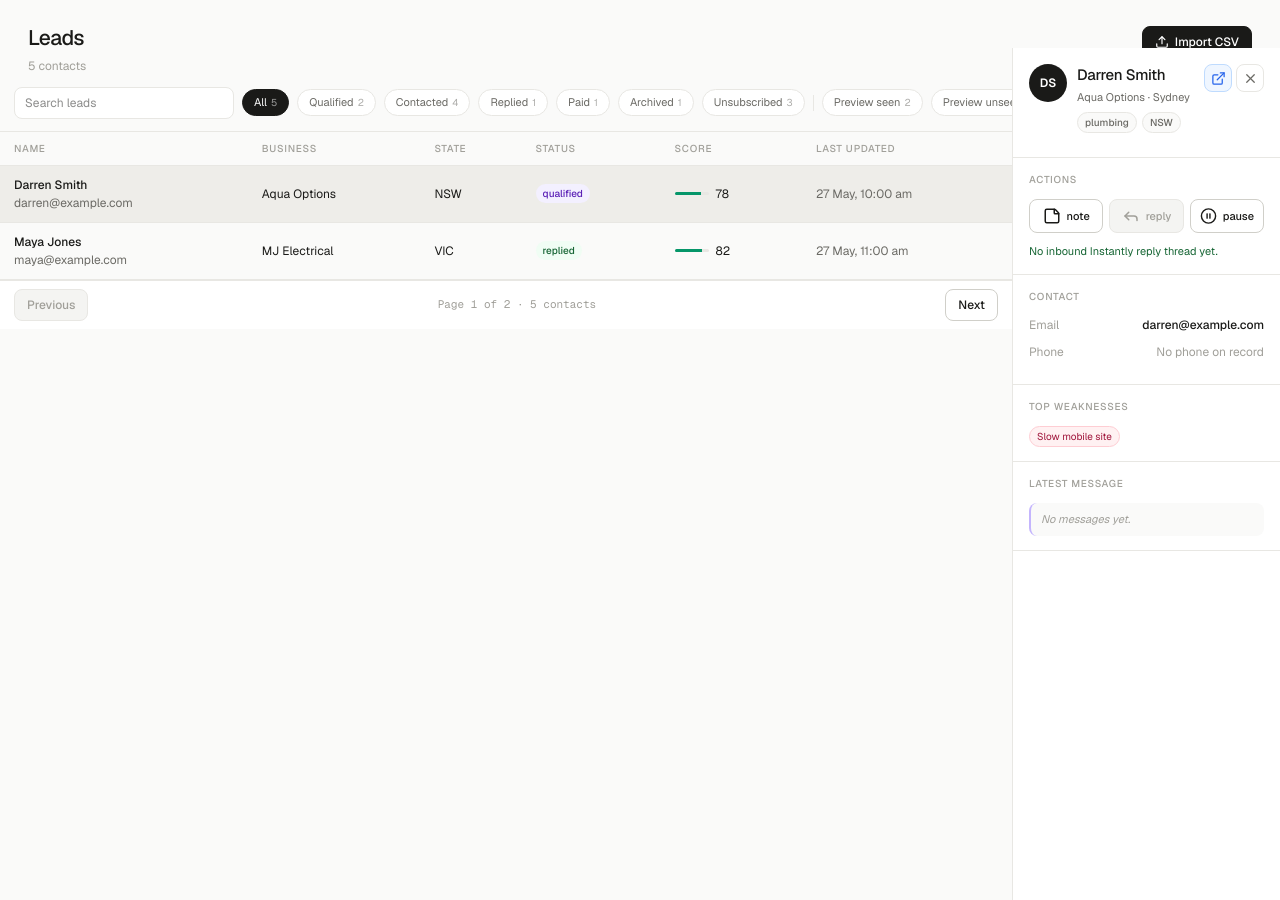
Test: LeadsWorkbench › requests the next page without navigation when pagination is clicked
Click the button "Next" at (972, 304), box [945,288,998,320]
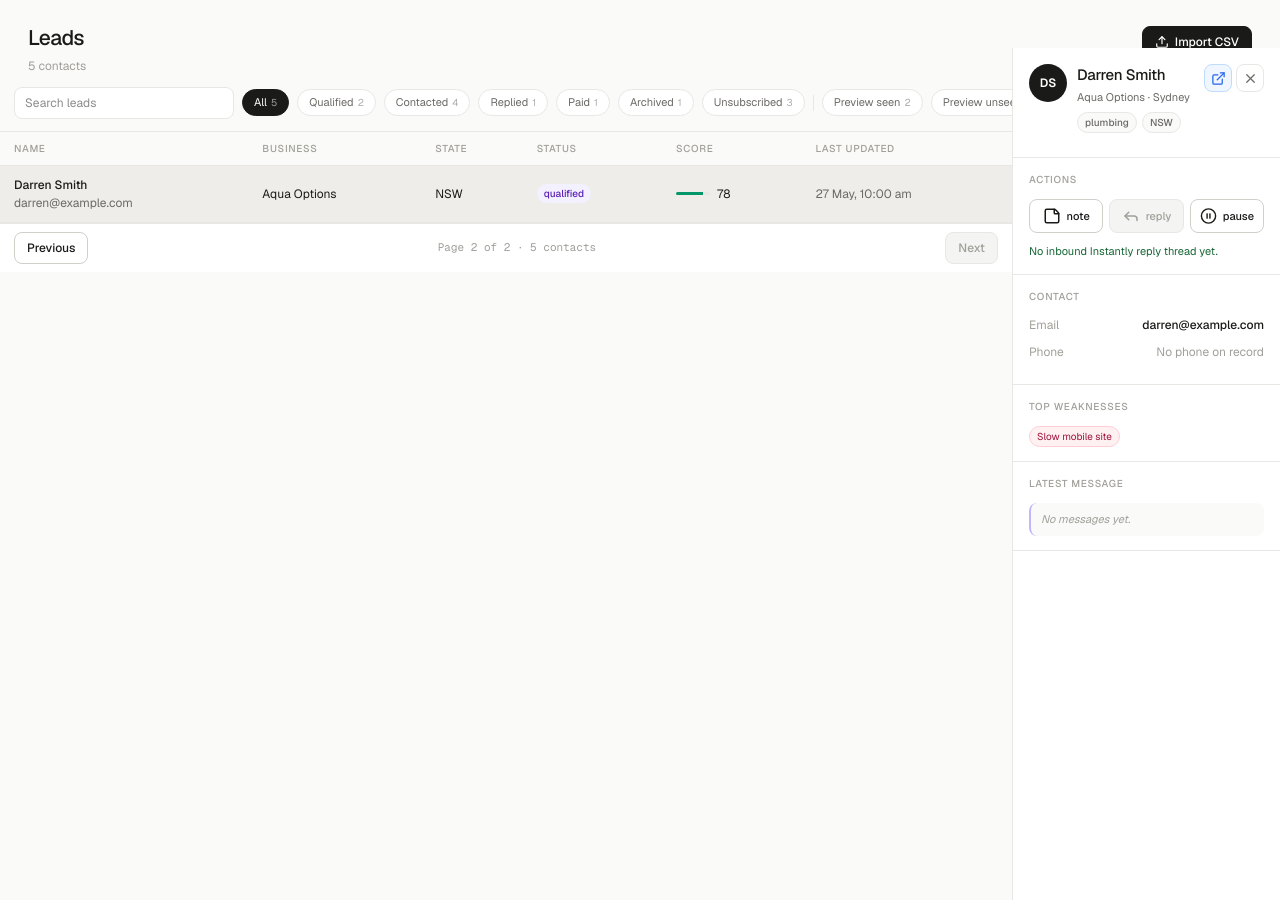
Expected: the text "Page 2 of 2 · 5 contacts" is shown, [438,239,596,256]
